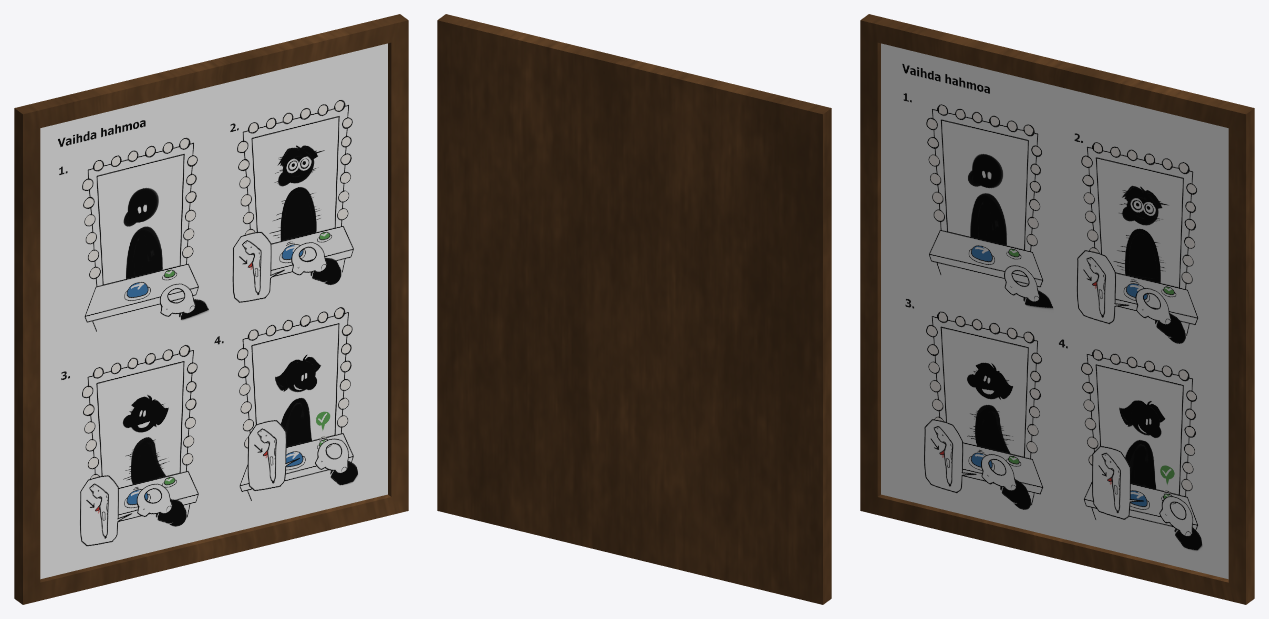
The model's file is vaihda_hahmoa_tutoriaali.fbx.
The picture shows the model from 3 angles, left to right: view 1: azimuth 30°, elevation 25°; view 2: azimuth 150°, elevation 25°; view 3: azimuth 330°, elevation 25°; orthographic projection.
Parts seen in each view (by area): view 1: vaihda_hahmo; view 2: vaihda_hahmo; view 3: vaihda_hahmo.
Part boxes in pixels (x1=…): vaihda_hahmo: x1=14, y1=14, x2=408, y2=604; vaihda_hahmo: x1=437, y1=14, x2=831, y2=604; vaihda_hahmo: x1=860, y1=14, x2=1254, y2=604.
Size of the model in its own units: 31.28 by 38.03 by 1.2.
